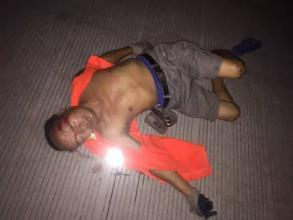Fall-Detected: (32, 23, 256, 220)
